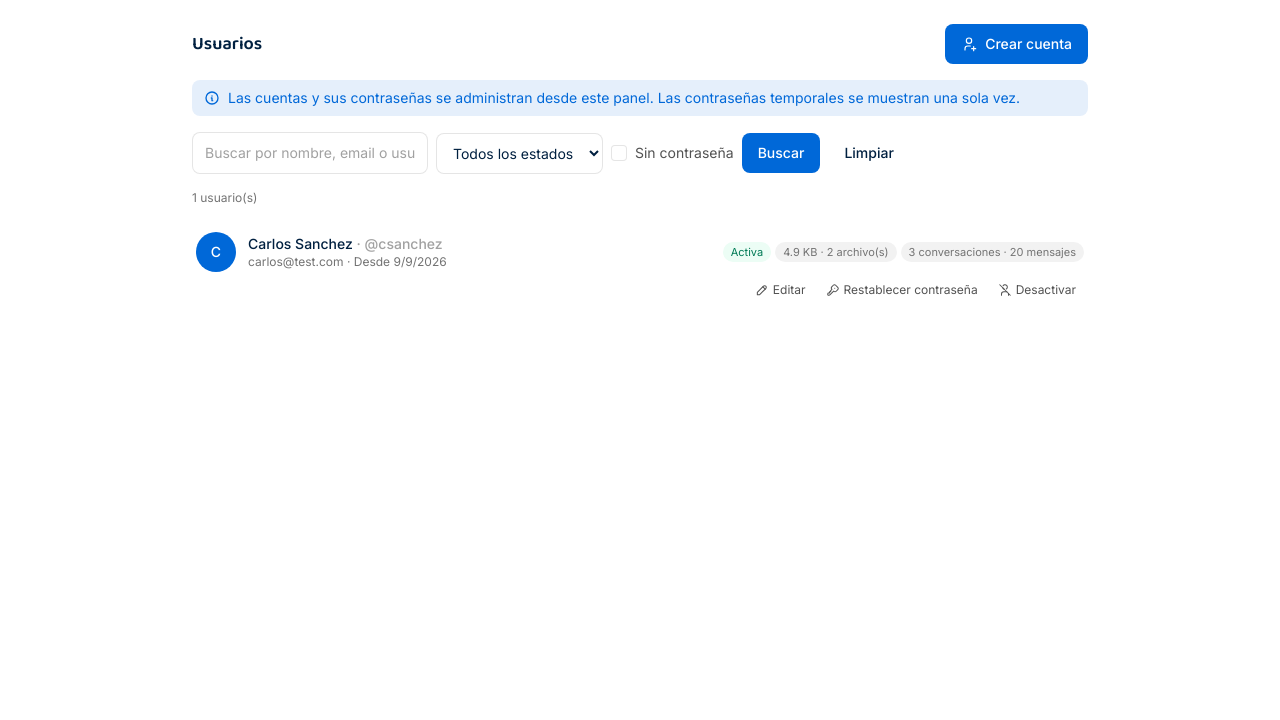
Scenario: AdminUsersPanel › con cuentas locales › never writes the temporary password to localStorage
Click the button "Restablecer contraseña" at (902, 290), box [818, 278, 986, 302]
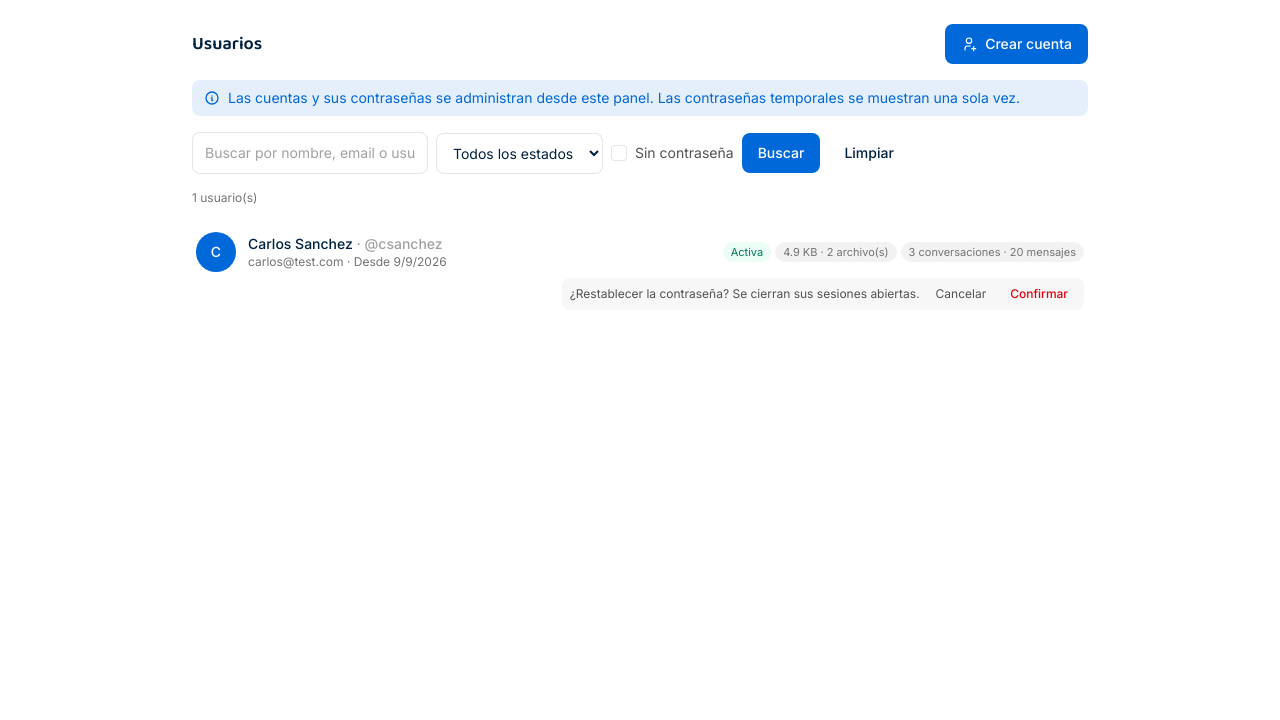
Click the button "Confirmar" at (1039, 294), box [1002, 282, 1076, 306]
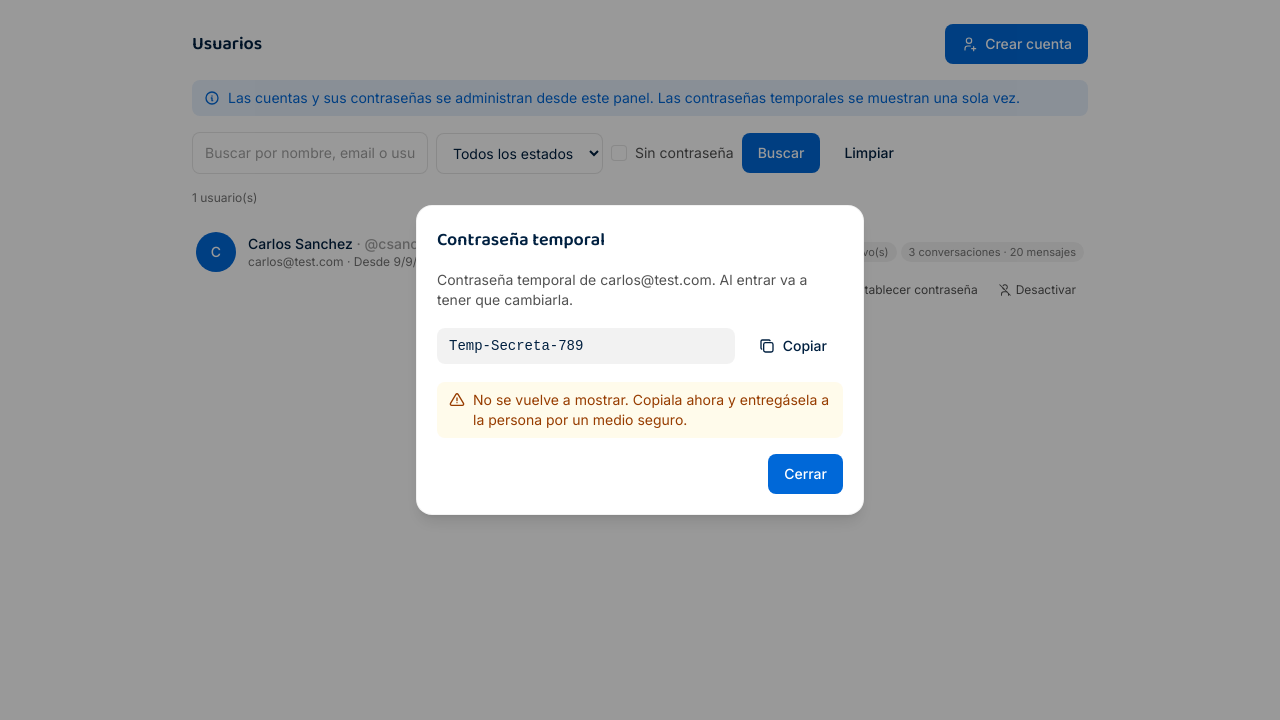
Expected: the text "Temp-Secreta-789" is shown, [437, 328, 735, 364]
